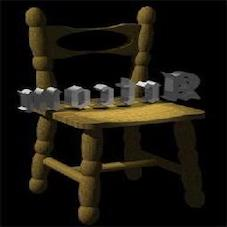chair: (12, 12, 208, 215)
